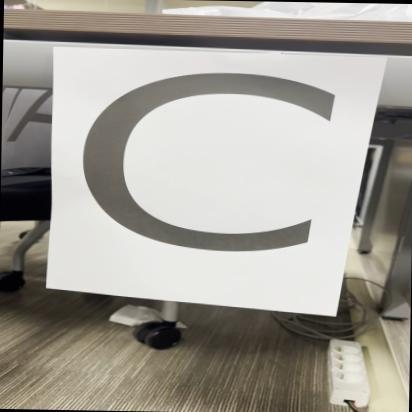seat: (47, 45, 348, 318)
